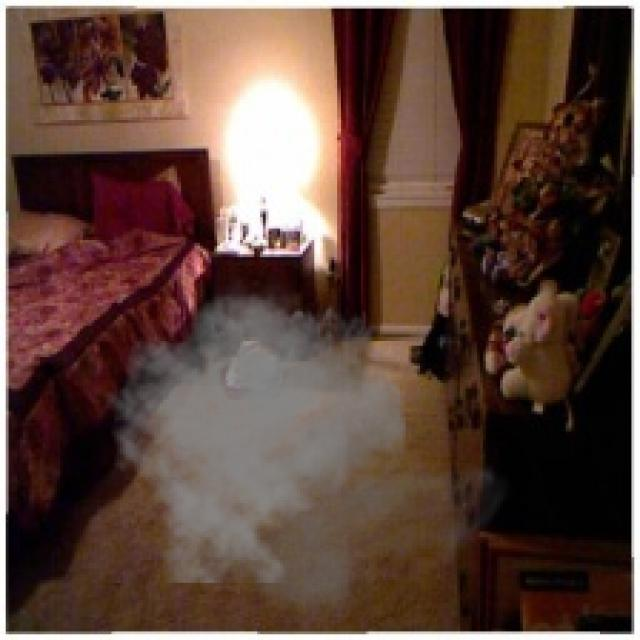smoke: (103, 268, 514, 626)
